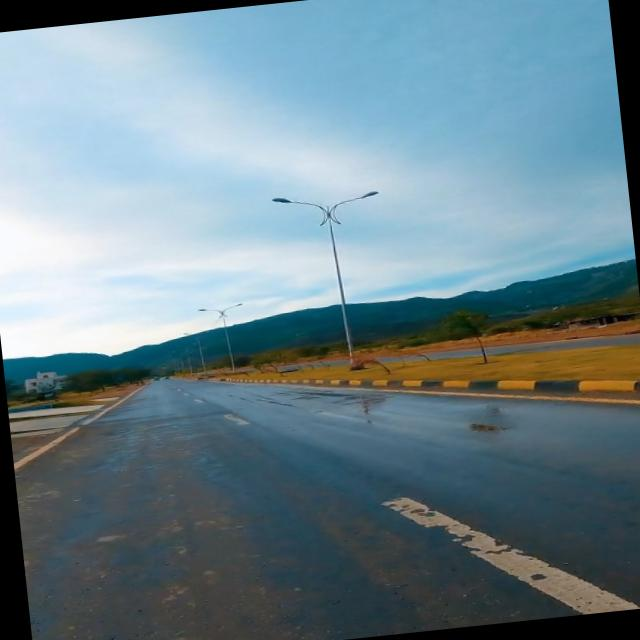asphalt: (14, 380, 640, 640)
